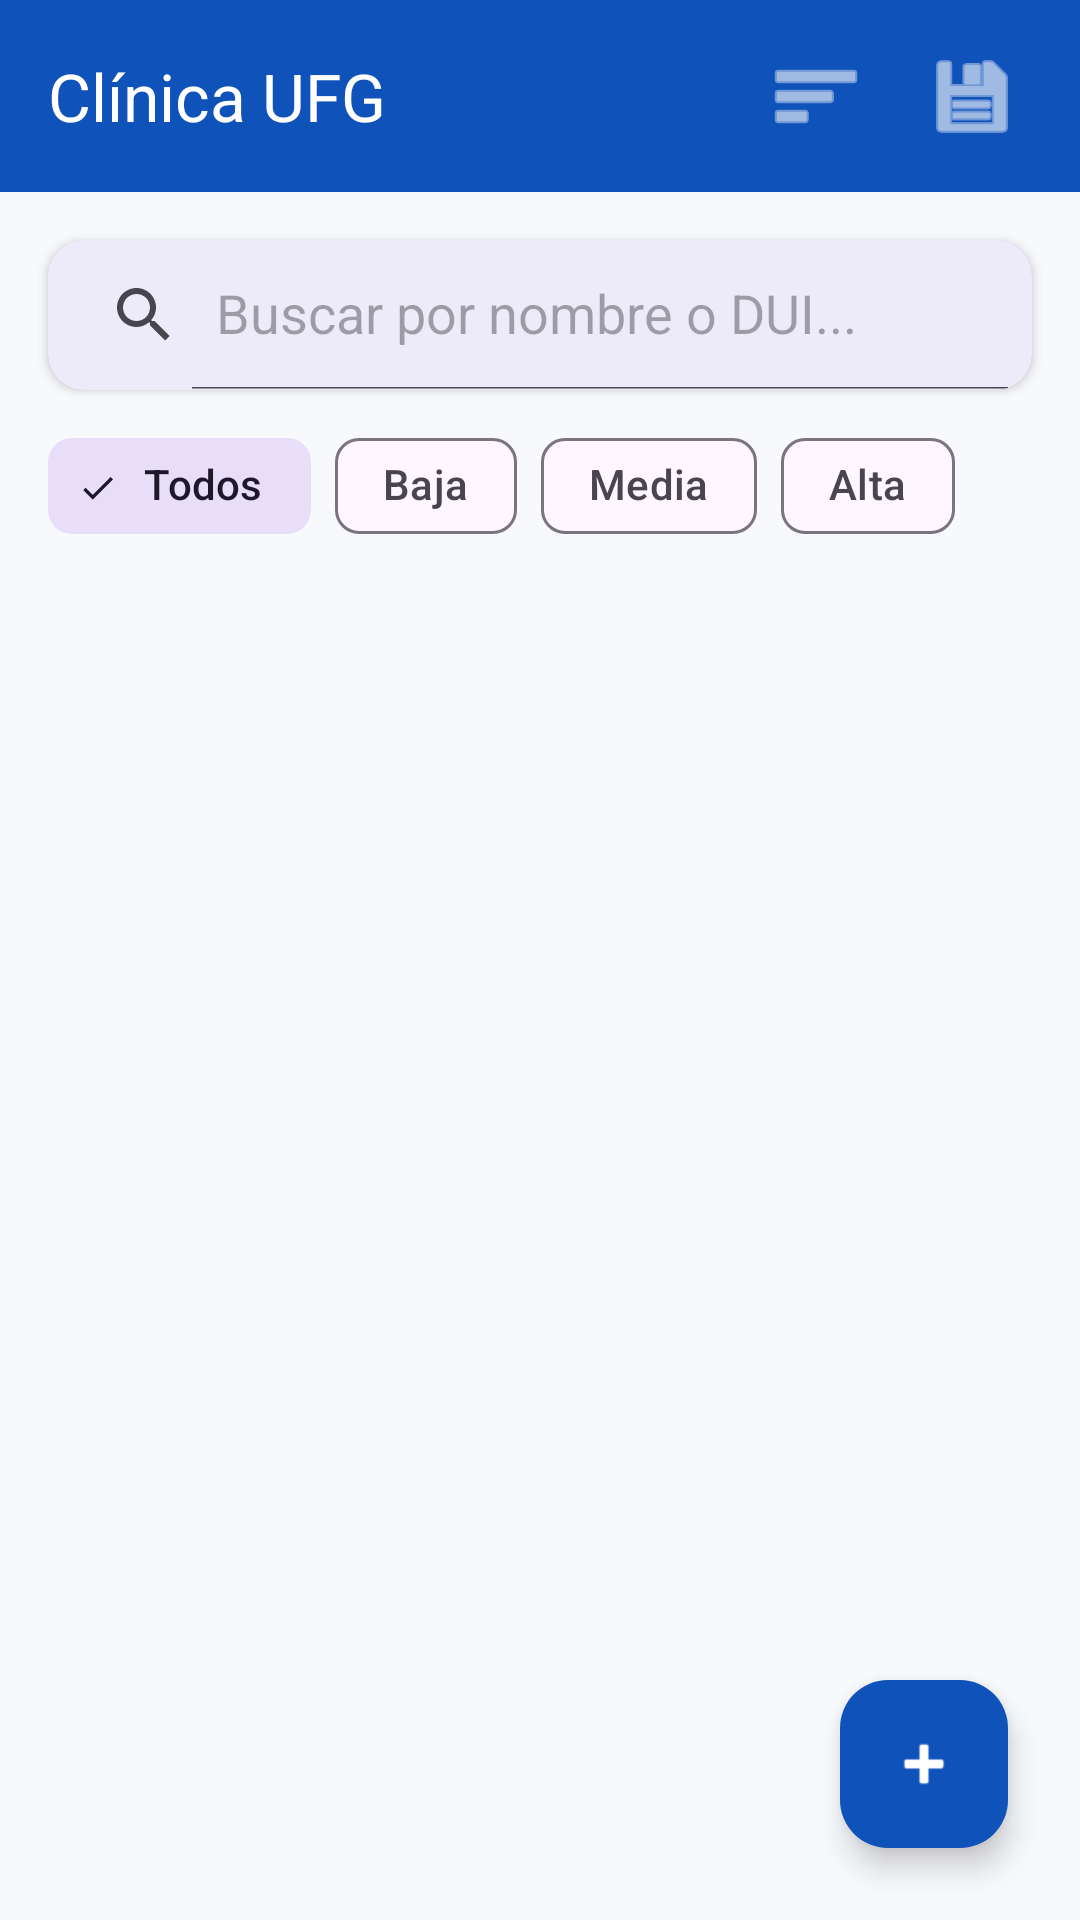

Point at icon controls on the screen. Image size 1080 × 1920, points as [x,y].
Agregar Paciente: [924,1764]
Exportar CSV: [972,96]
